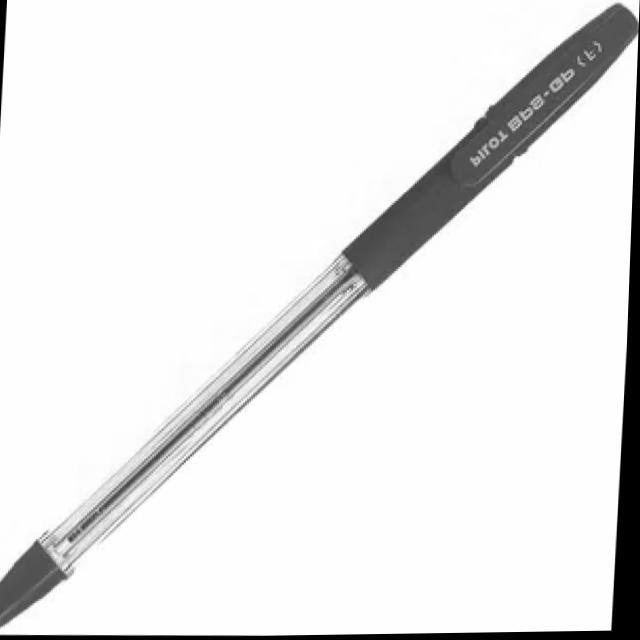pencil: (2, 0, 619, 640)
